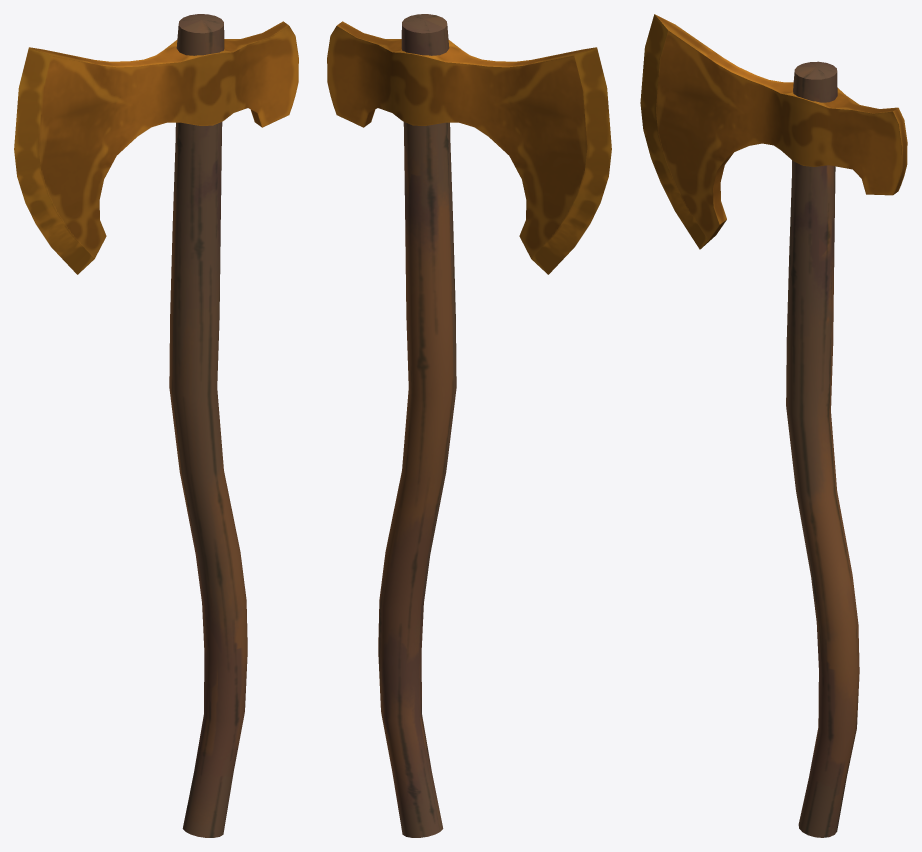
File: axe_bronze.gltf
3 views of the same model, side by side, from view 1: azimuth 30°, elevation 25°; view 2: azimuth 150°, elevation 25°; view 3: azimuth 330°, elevation 25° (orthographic). The views are drawn at different scales.
Visible parts, largest first — view 1: Axe_Bronze; view 2: Axe_Bronze; view 3: Axe_Bronze.
Part boxes in pixels (left/top/right/bottom): Axe_Bronze: left=14, top=14, right=298, bottom=837; Axe_Bronze: left=327, top=14, right=611, bottom=837; Axe_Bronze: left=640, top=14, right=907, bottom=837.
Size of the model in its own units: 0.2945 by 0.8269 by 0.046.
1 material, 1 textured.
